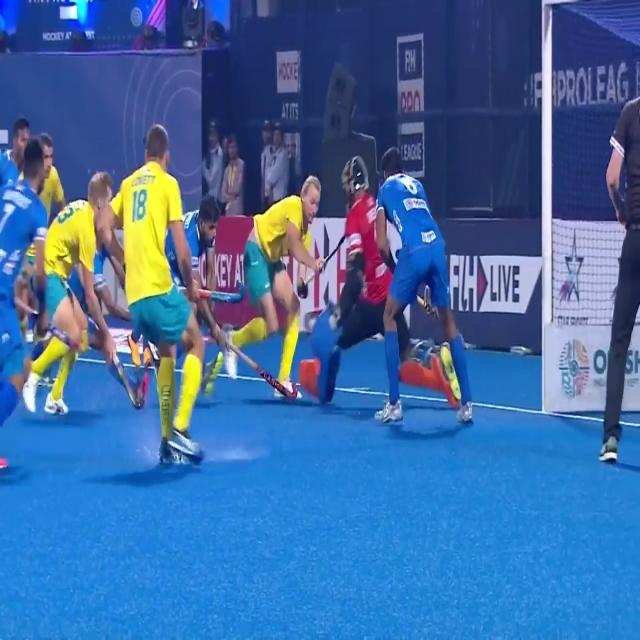ball: (288, 381, 305, 404)
